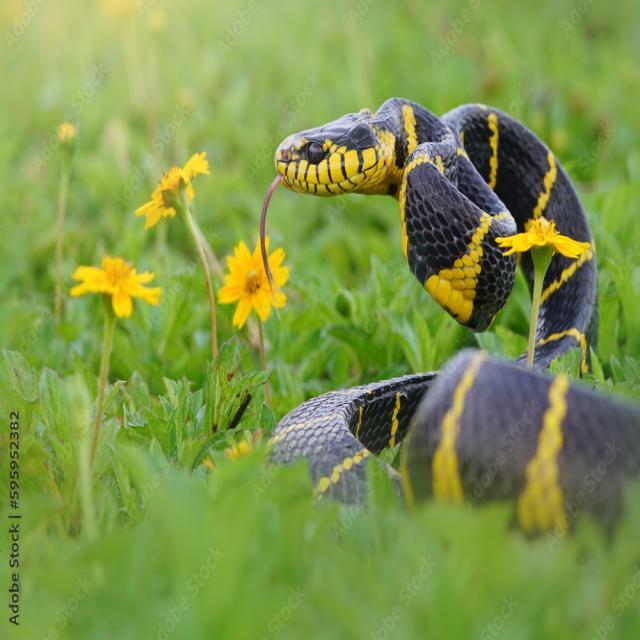Snake: (241, 58, 640, 569)
